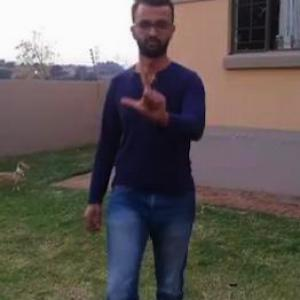land_hand: (119, 57, 174, 123)
